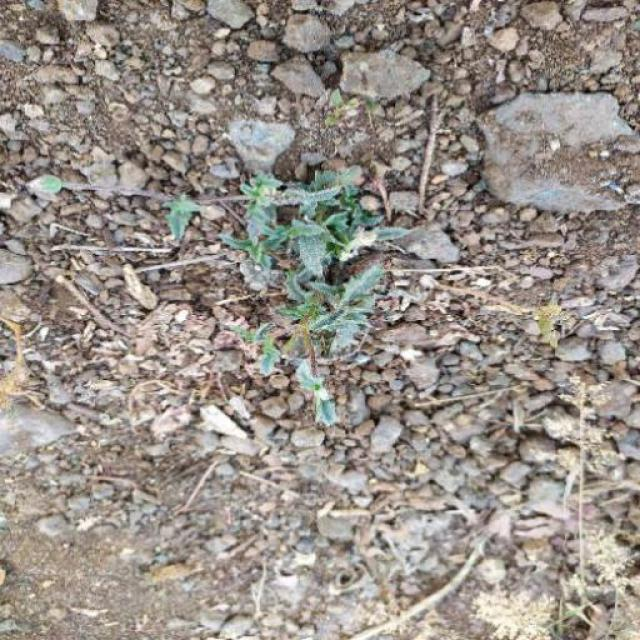weed: (160, 154, 400, 372)
